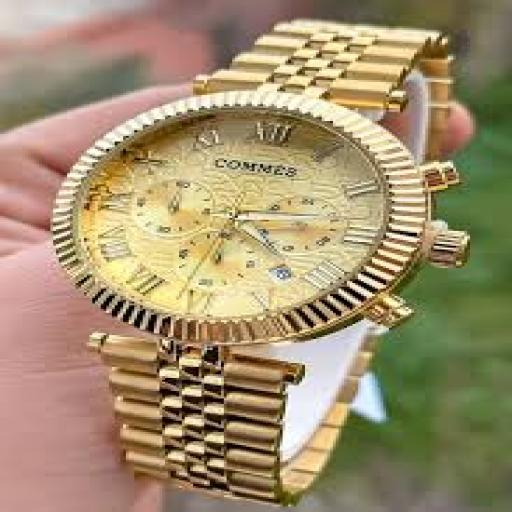KolSaati: (29, 4, 452, 500)
